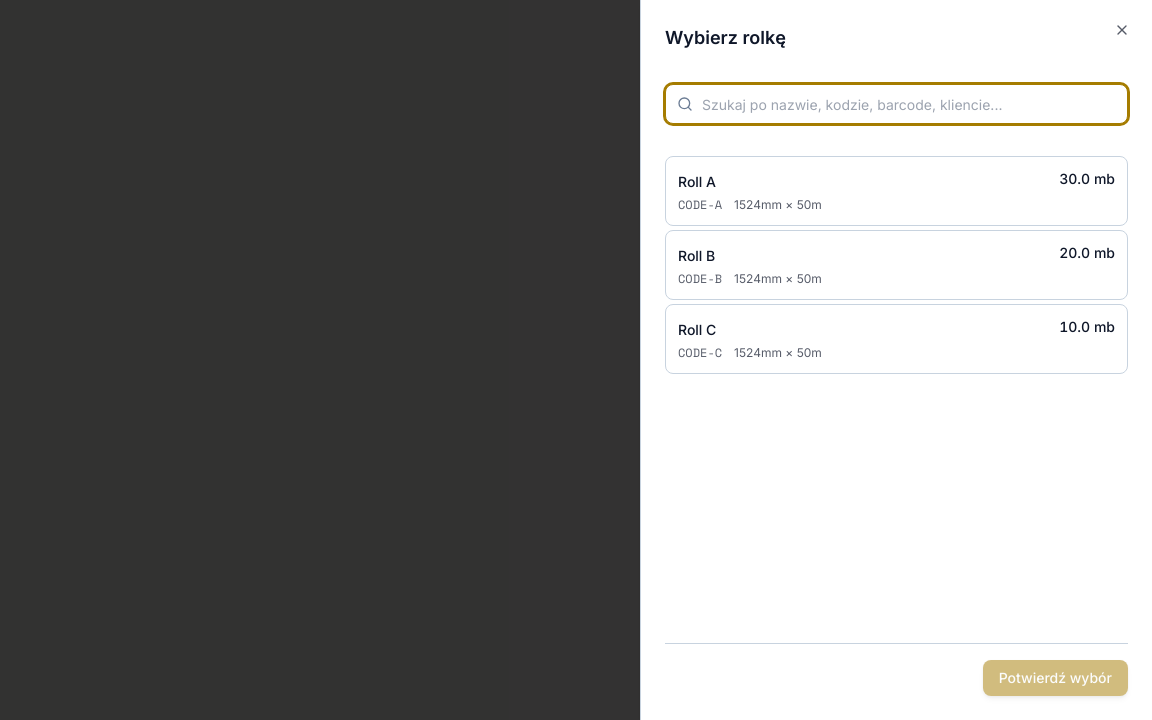
Scenario: RollSelectDrawer › Search filtering › shows empty search state when no results match
The width and height of the screenshot is (1152, 720).
Check: the text "Roll A" is shown, box [678,173,716,190]
Type "nonexistent-roll-xyz" into the field with placeholder "Szukaj po nazwie, kodzie, barcode, kliencie..." at (896, 104), box [665,84,1128,124]
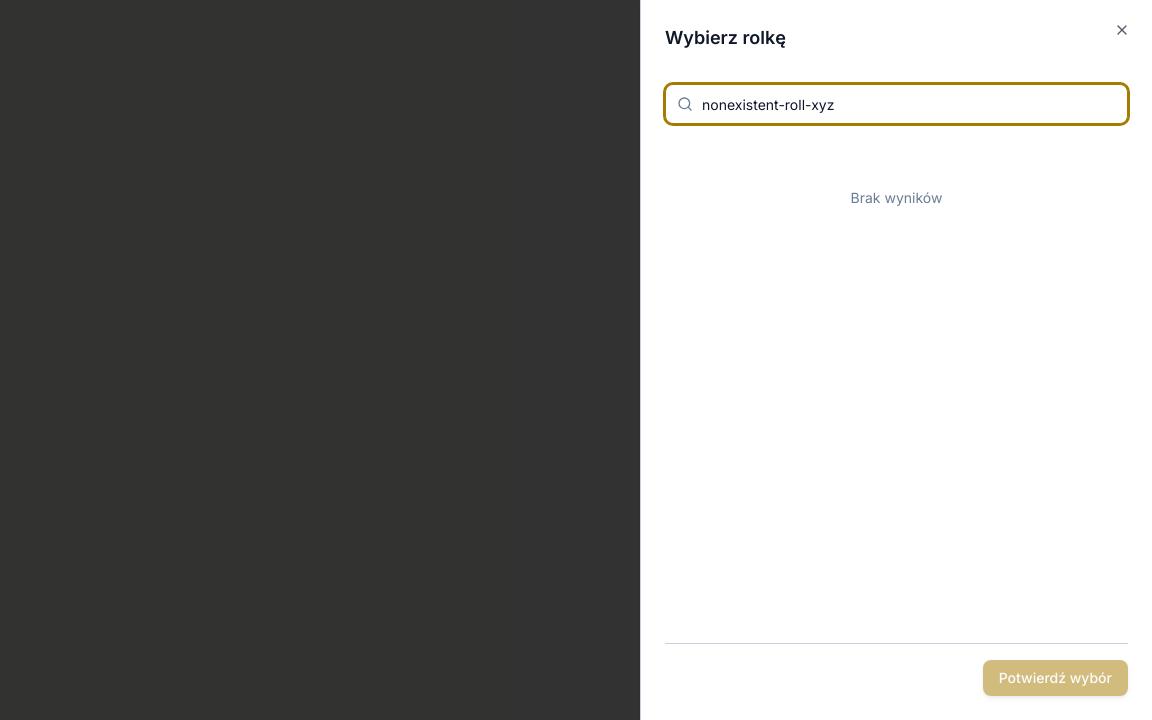
Check: the text "Brak wyników" is shown, box [851,189,942,206]
